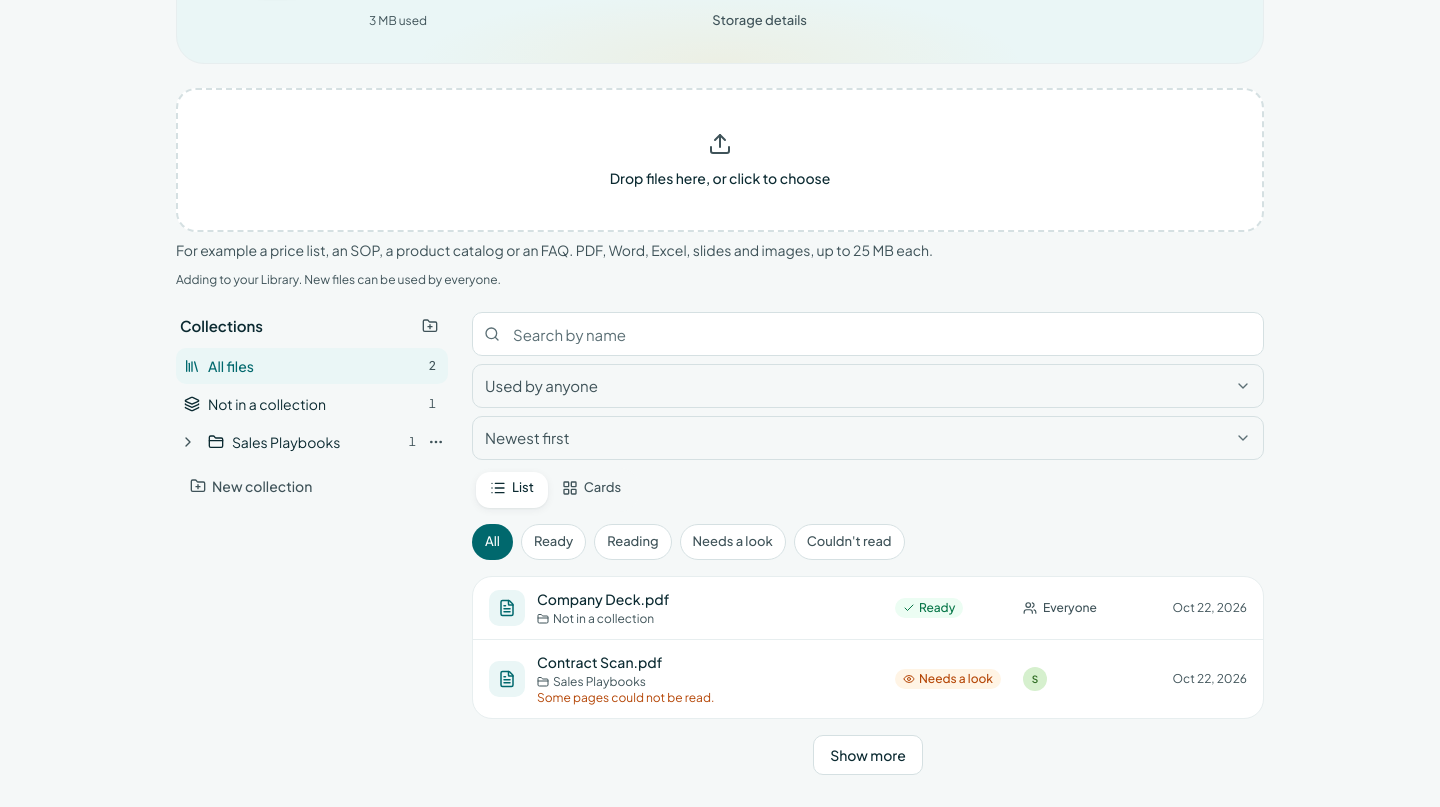
Test: the list › shows more files by asking for the next page and appending it
(page scrolled)
Click the button "Show more": (868, 755) [813,735,923,775]
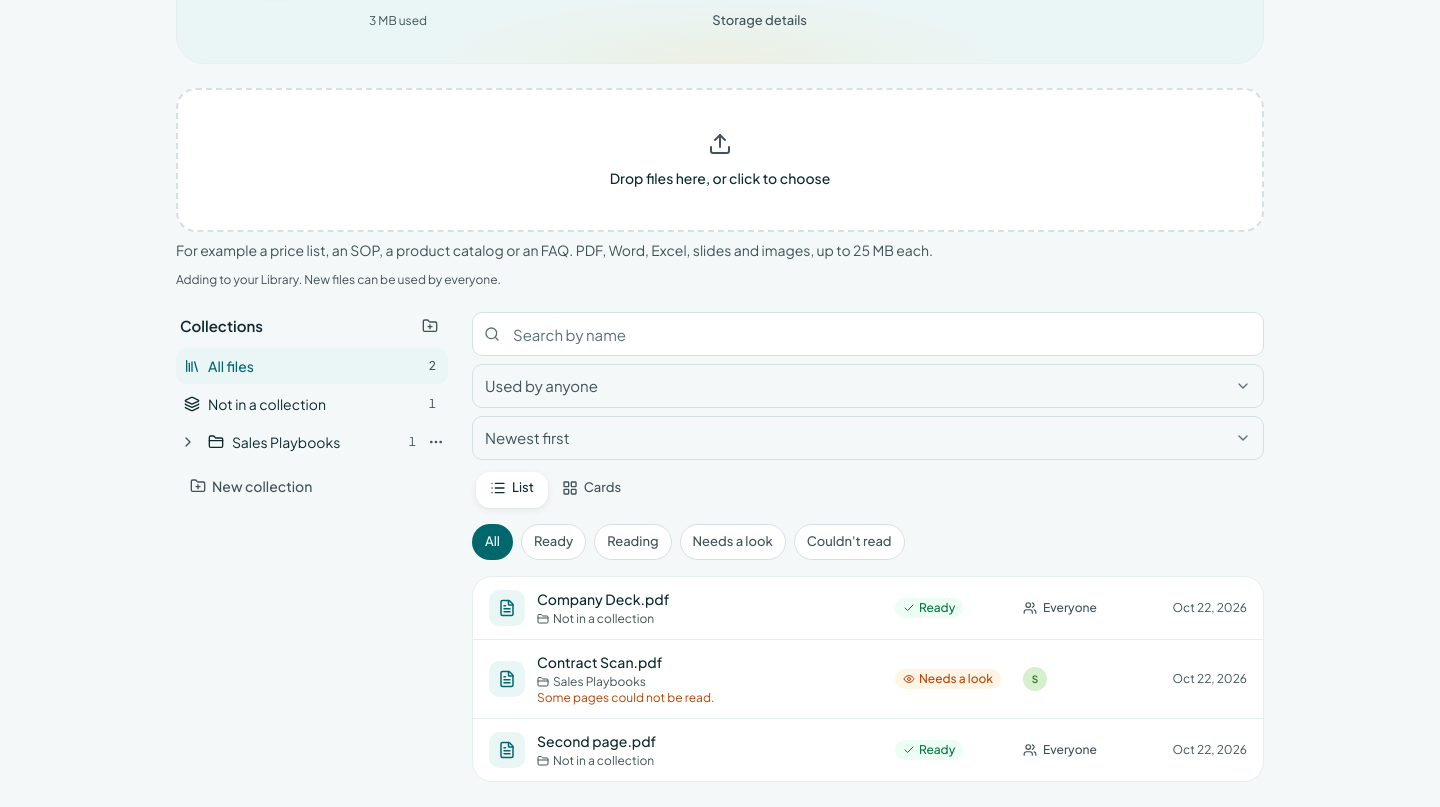
Expected: the text "Company Deck.pdf" is shown, [537,590,669,608]
Now the text "Second page.pdf" is shown, box [537,732,656,750]
Now the button "Show more" is gone
